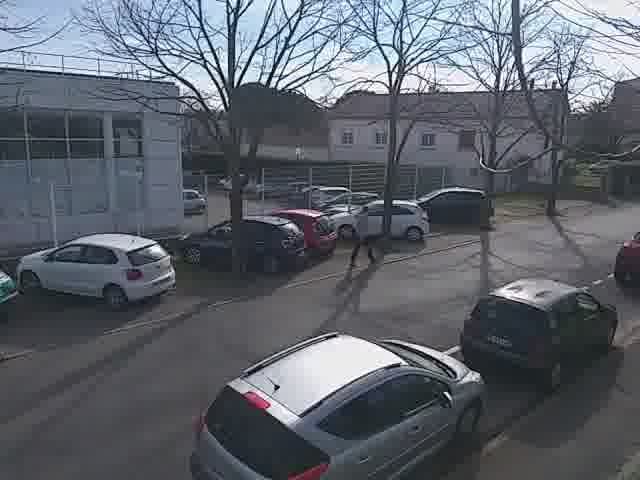persona: (349, 196, 379, 274)
